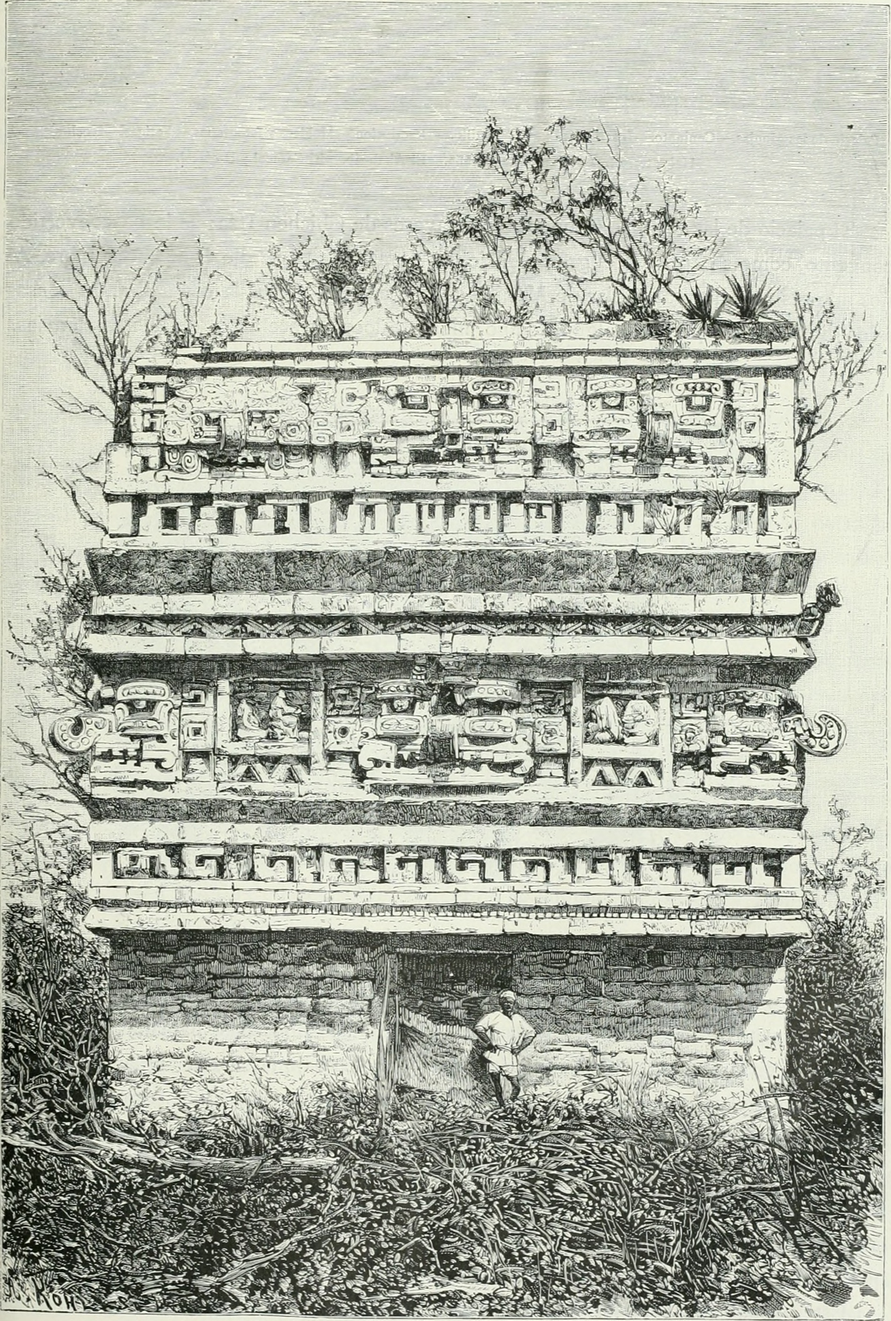fachada: (54, 124, 867, 1168)
